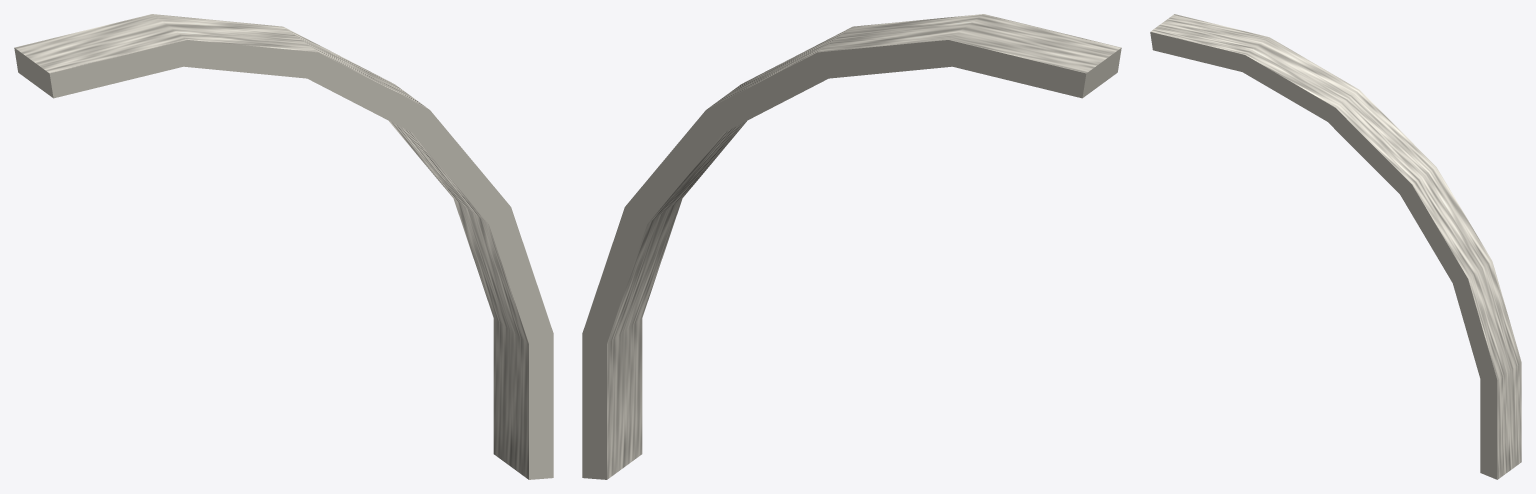
Rendered from f_taihouring8.fbx.
3 renders of one model, left to right at view 1: azimuth 30°, elevation 25°; view 2: azimuth 150°, elevation 25°; view 3: azimuth 330°, elevation 25°, orthographic. The views are drawn at different scales.
Parts seen in each view (by area): view 1: f_taihou_ring4; view 2: f_taihou_ring4; view 3: f_taihou_ring4.
Part boxes in pixels (left/top/right/bottom): f_taihou_ring4: left=14, top=14, right=553, bottom=479; f_taihou_ring4: left=582, top=14, right=1121, bottom=479; f_taihou_ring4: left=1150, top=14, right=1521, bottom=479.
Size of the model in its own units: 153 by 153 by 18.56.
1 material, 1 textured.
